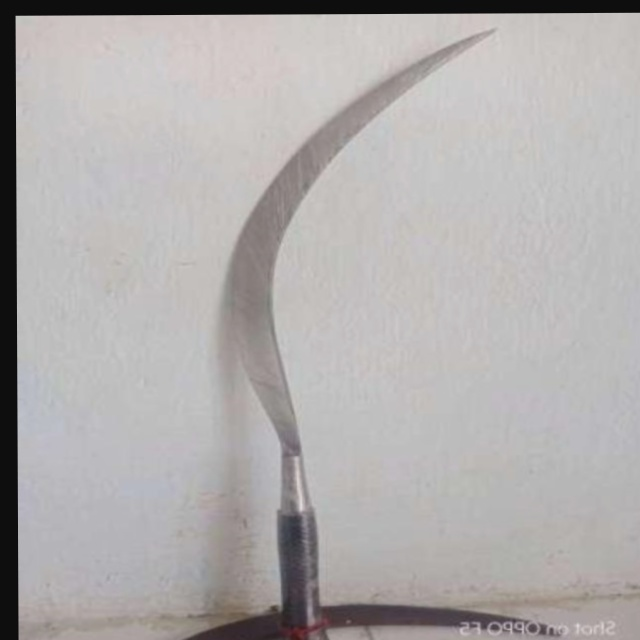Sharp-Object: (214, 20, 500, 640)
